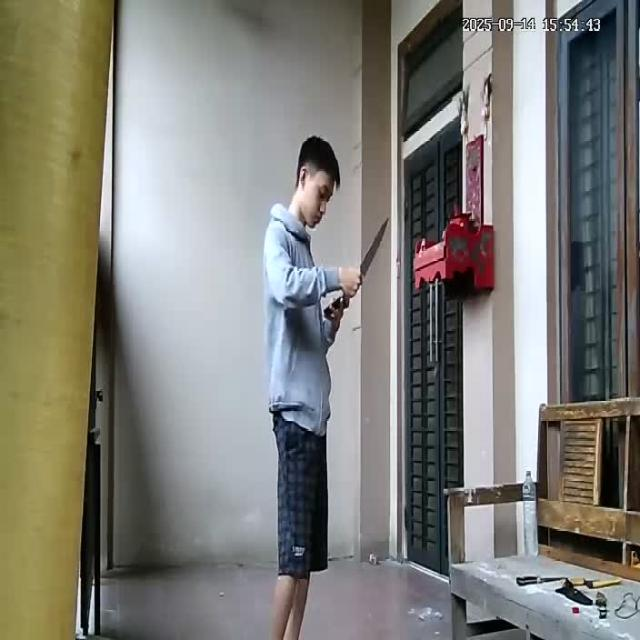senjata_tajam: (358, 216, 389, 276)
